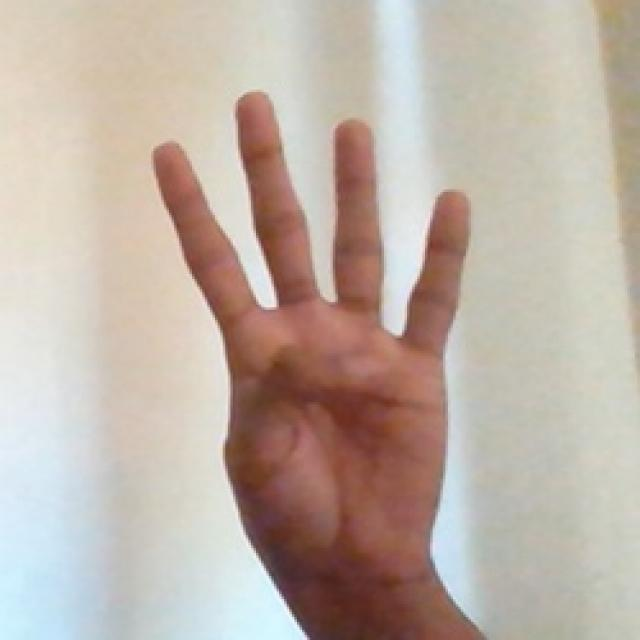Numeric-4: (153, 85, 471, 607)
